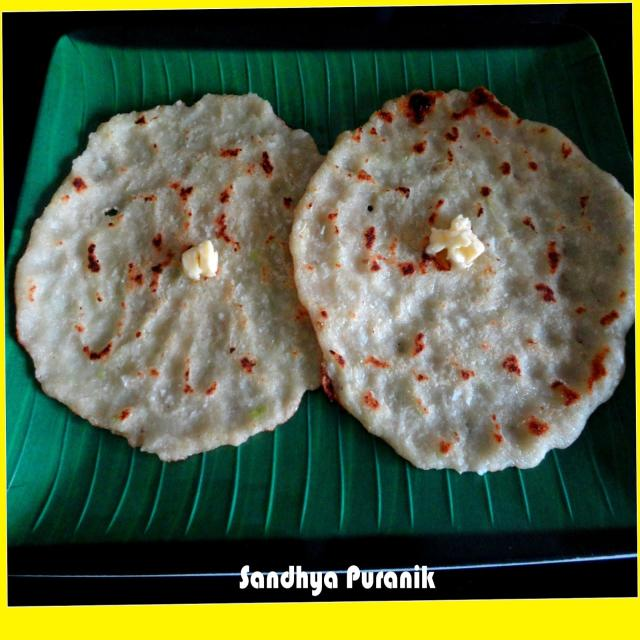RICE BHAKRI: (286, 91, 628, 467), (15, 95, 323, 460)
